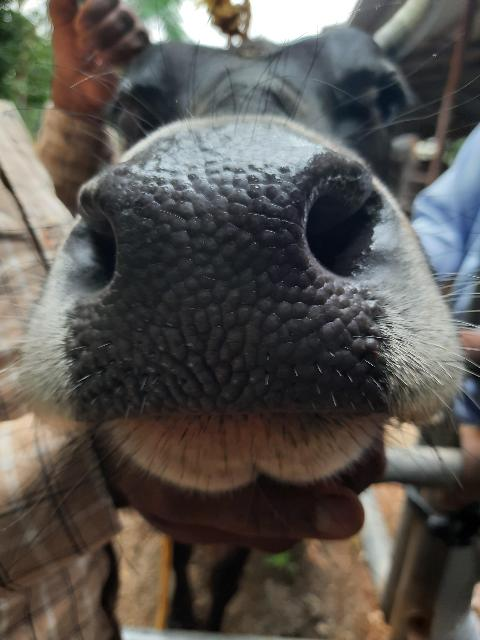Muzzle: (96, 160, 320, 408)
